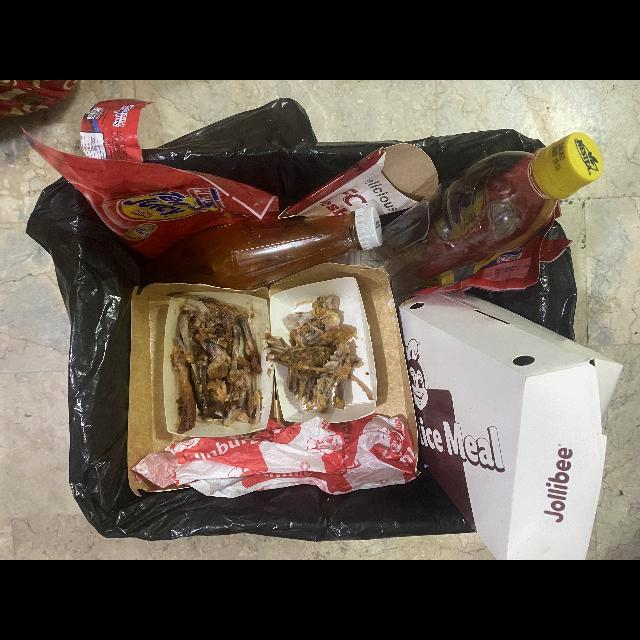cardboard: (400, 290, 622, 560)
food_wrapper: (24, 99, 278, 255)
glass_bottle: (154, 206, 383, 293)
left_over_food: (169, 292, 263, 436), (267, 296, 371, 414)
paper: (131, 414, 414, 497)
plastic_bottle: (325, 135, 602, 300)
